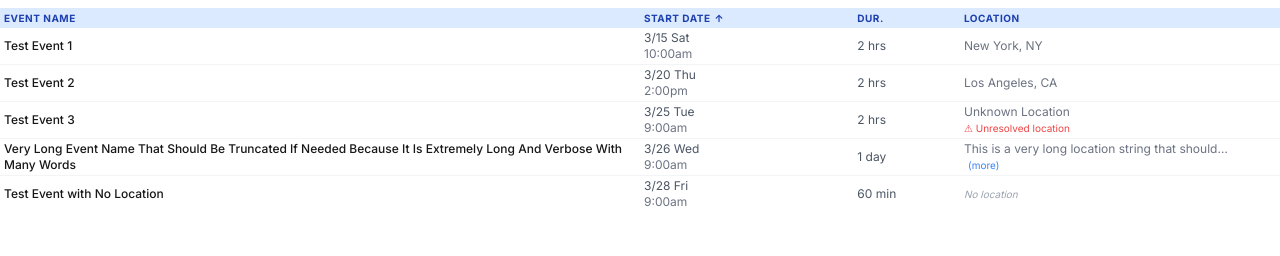
Test case: EventList › expands and collapses long location text when clicked
Expected: the text "(more)" is shown, top-left (968, 159), bottom-right (999, 171)
Click to expand
Click the text "This is a very long location string that should definitel..." at coordinates (1091, 156), box top-left (964, 141), bottom-right (1217, 172)
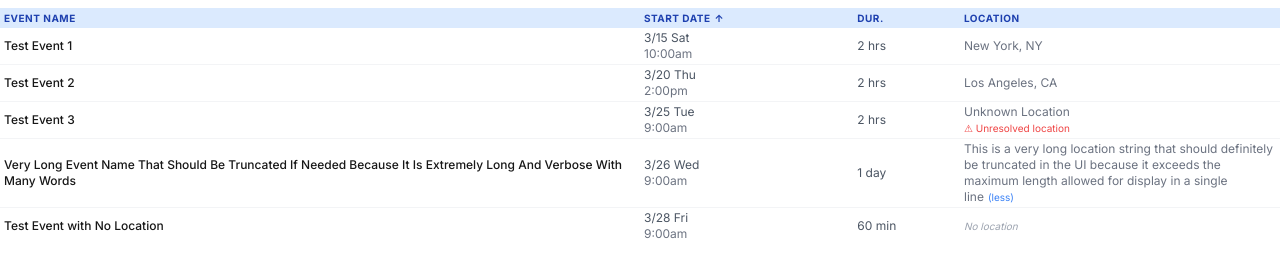
Now the button "This is a very long location string that should definitely be truncated" is shown
Now the text "(less)" is shown, box top-left (988, 191), bottom-right (1014, 203)
Click again to collapse
Click the button "This is a very long location string that should definitely be truncated" at coordinates (1120, 173), box top-left (964, 141), bottom-right (1276, 205)
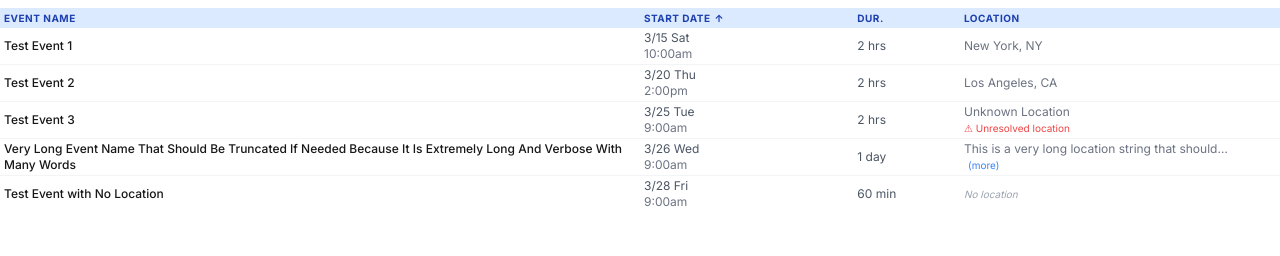
Now the text "This is a very long location string that should definitel..." is shown, box top-left (964, 141), bottom-right (1217, 172)
Now the text "(more)" is shown, box top-left (968, 159), bottom-right (999, 171)
